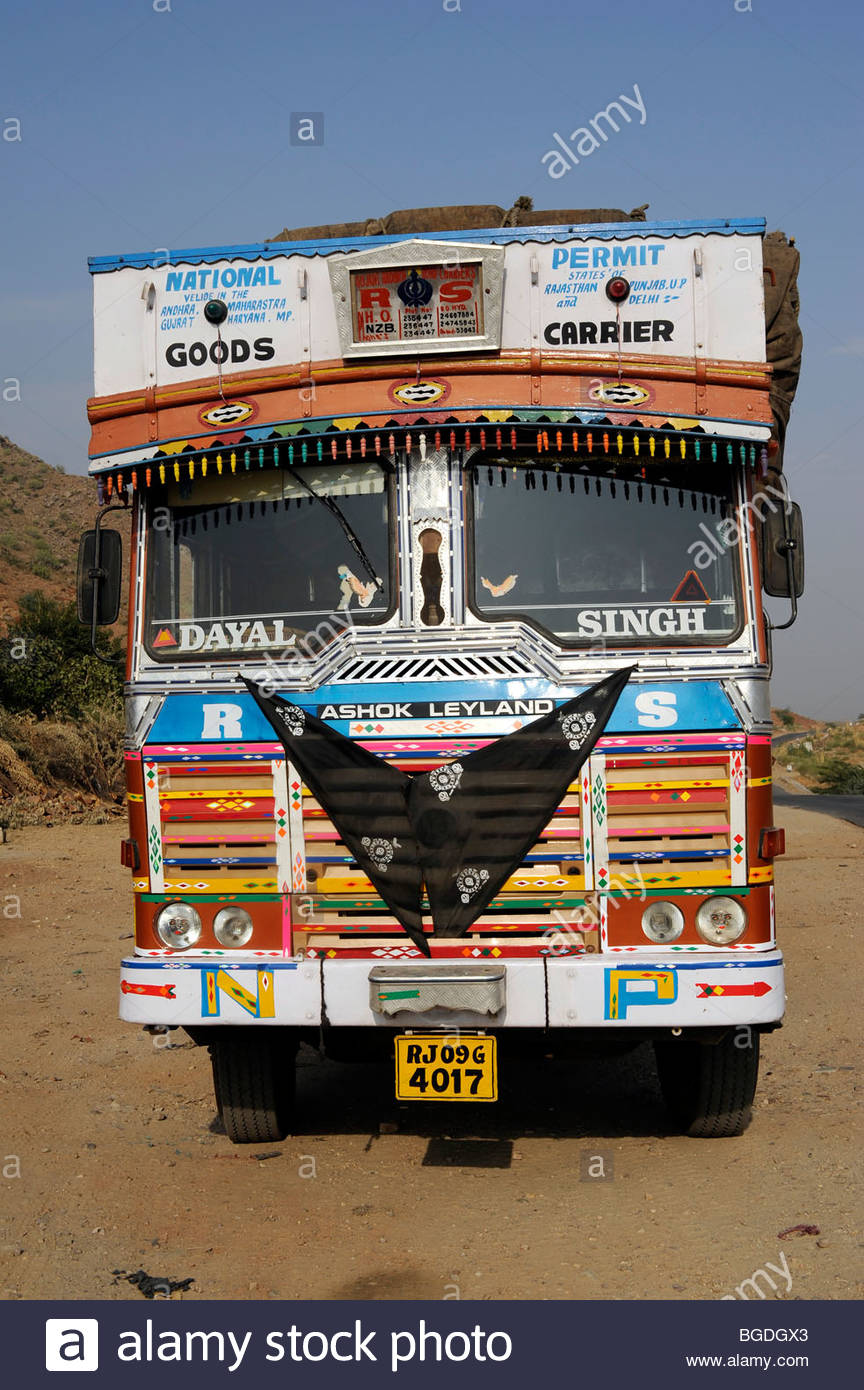doublelinenumberplate: (393, 1030, 502, 1105)
